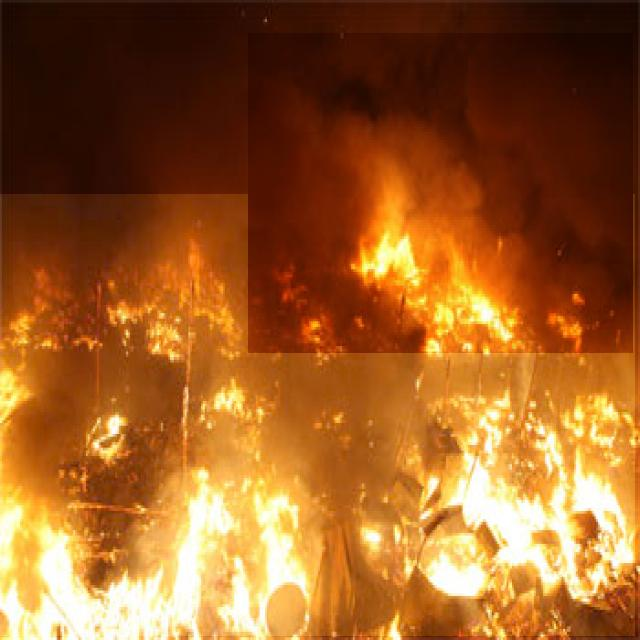Fire: (0, 194, 635, 636)
Smoke: (248, 33, 633, 353)
